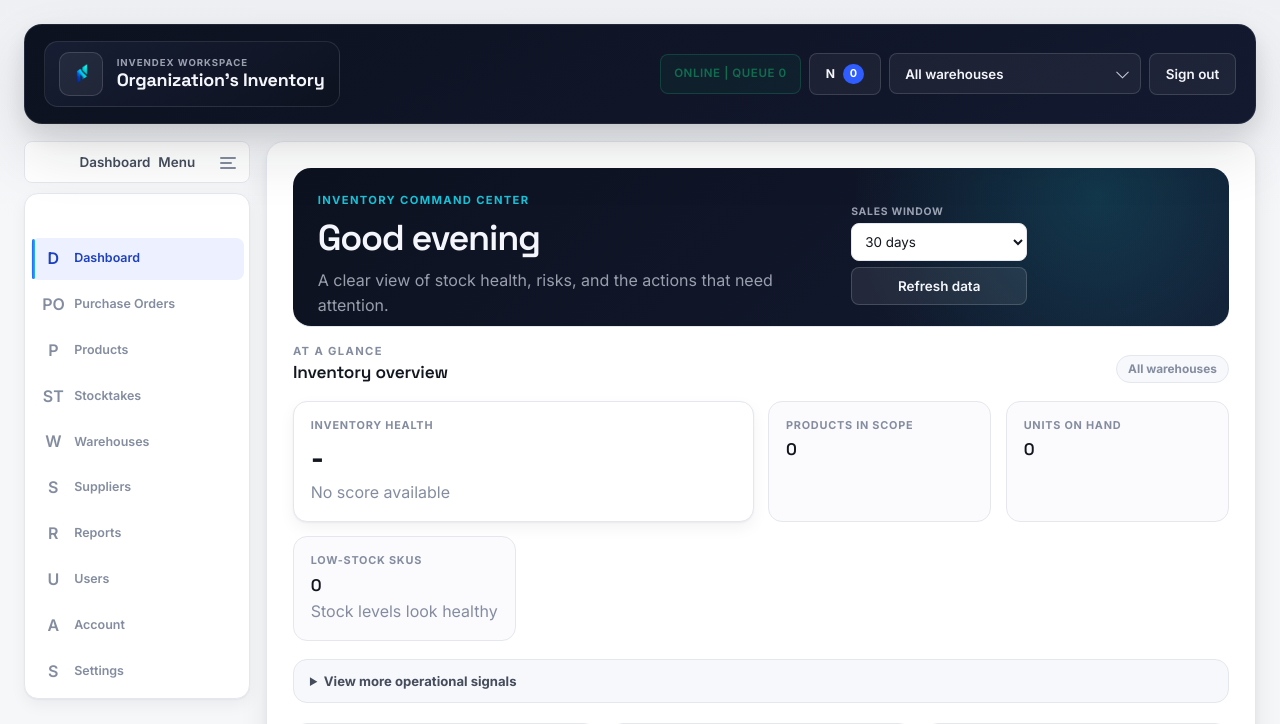
it: App integration › handles realtime inventory and purchase-order updates
Step 1. Click the button "PO Purchase Orders" → (137, 304), box [31,284,244,326]
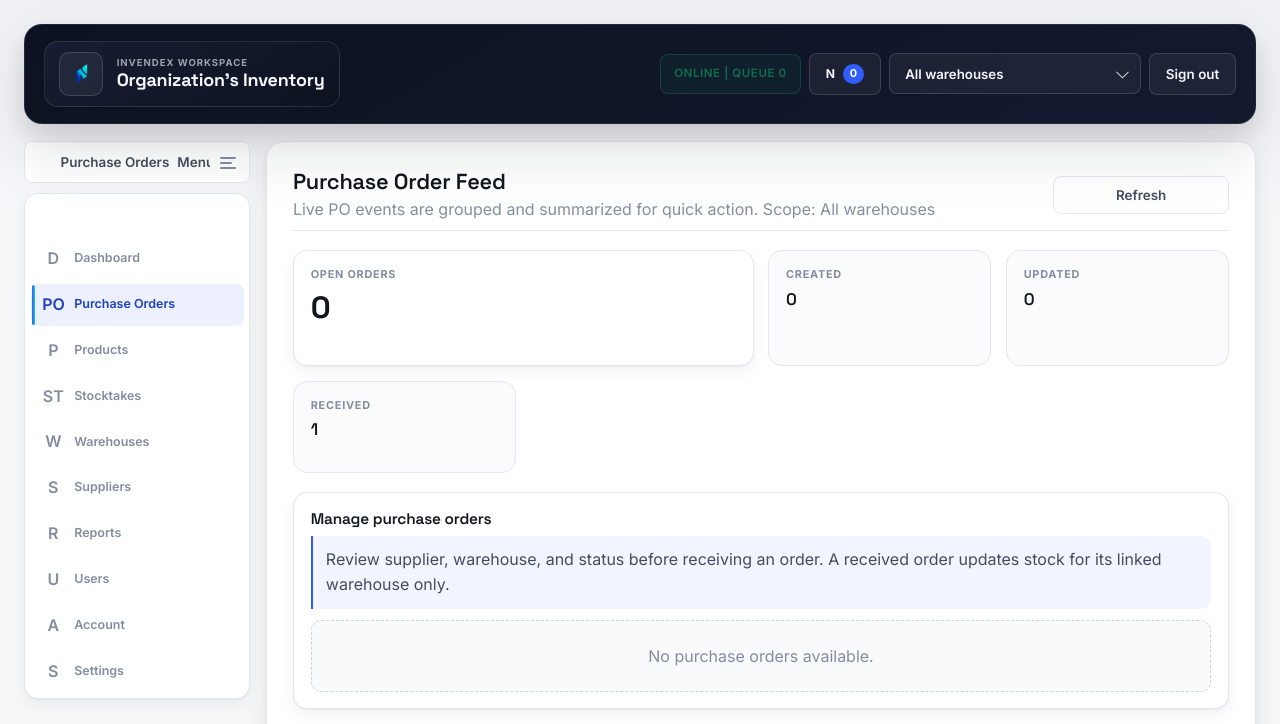
Step 2. Click the button named "Notifications" → (845, 74), box [809,53,881,95]
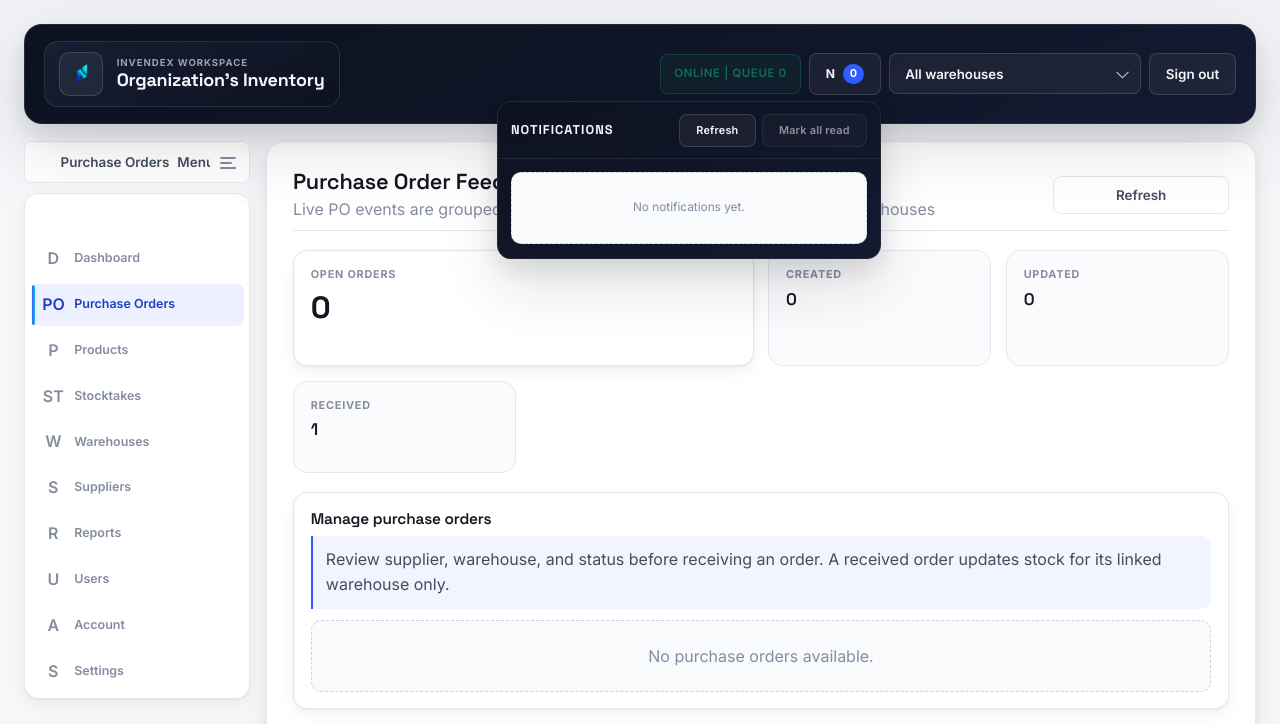
Result: the heading "Notifications" is shown at [511,124,614,137]
